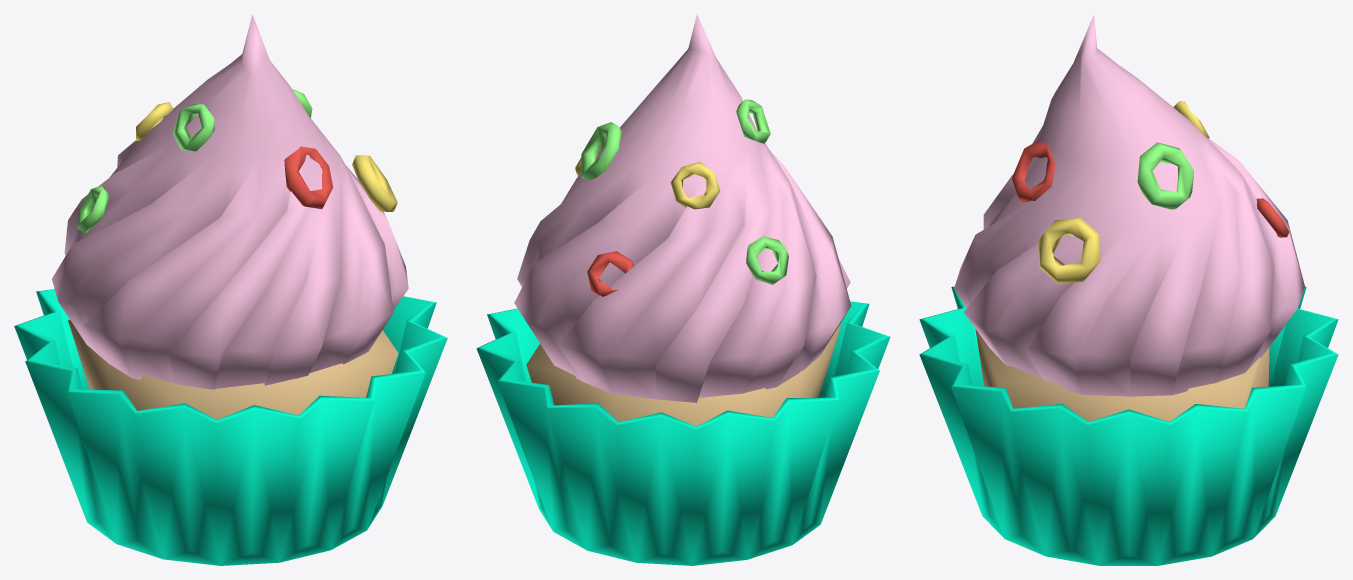
The model's file is cupcake.fbx.
The picture shows the model from 3 angles, left to right: view 1: azimuth 30°, elevation 25°; view 2: azimuth 150°, elevation 25°; view 3: azimuth 270°, elevation 25°; orthographic projection. The views are drawn at different scales.
Visible parts, largest first — view 1: Cube; view 2: Cube; view 3: Cube.
Part boxes in pixels (x1,y1,x2,y2): Cube: (14,14,447,565); Cube: (476,14,890,565); Cube: (919,14,1338,565).
Bounding box in the file's own units: 78.38 × 101 × 78.38.
